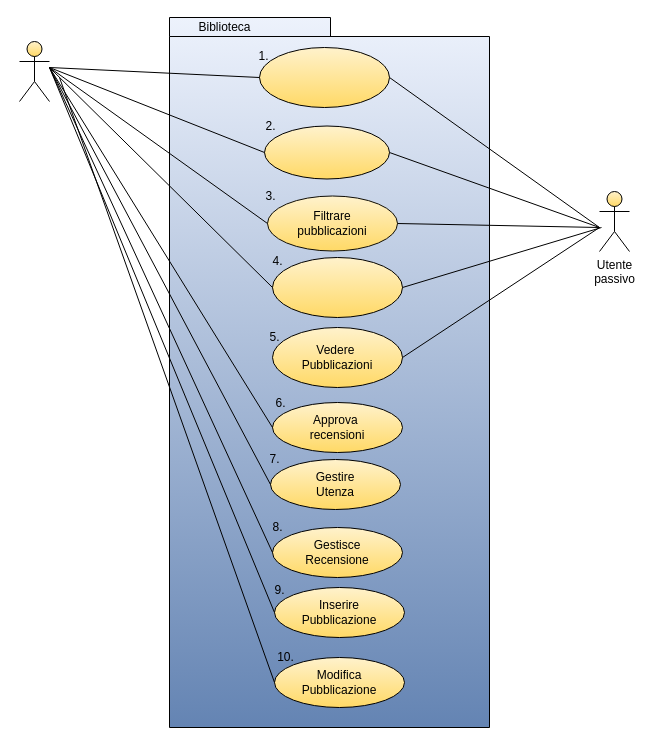
This 652x745 diagram has some shape labels left out. Each missing label, with the box of its shape:
Inserire Like: (264, 125, 390, 179)
Login & Signup: (272, 256, 402, 318)
Recensire pubblicazioni: (258, 46, 390, 108)
Utente attivo: (18, 40, 50, 102)
